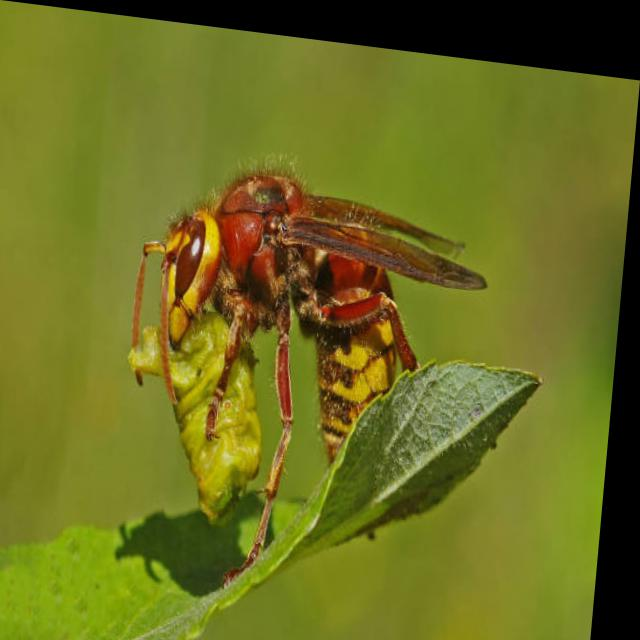Vespa Crabro: (77, 97, 509, 617)
